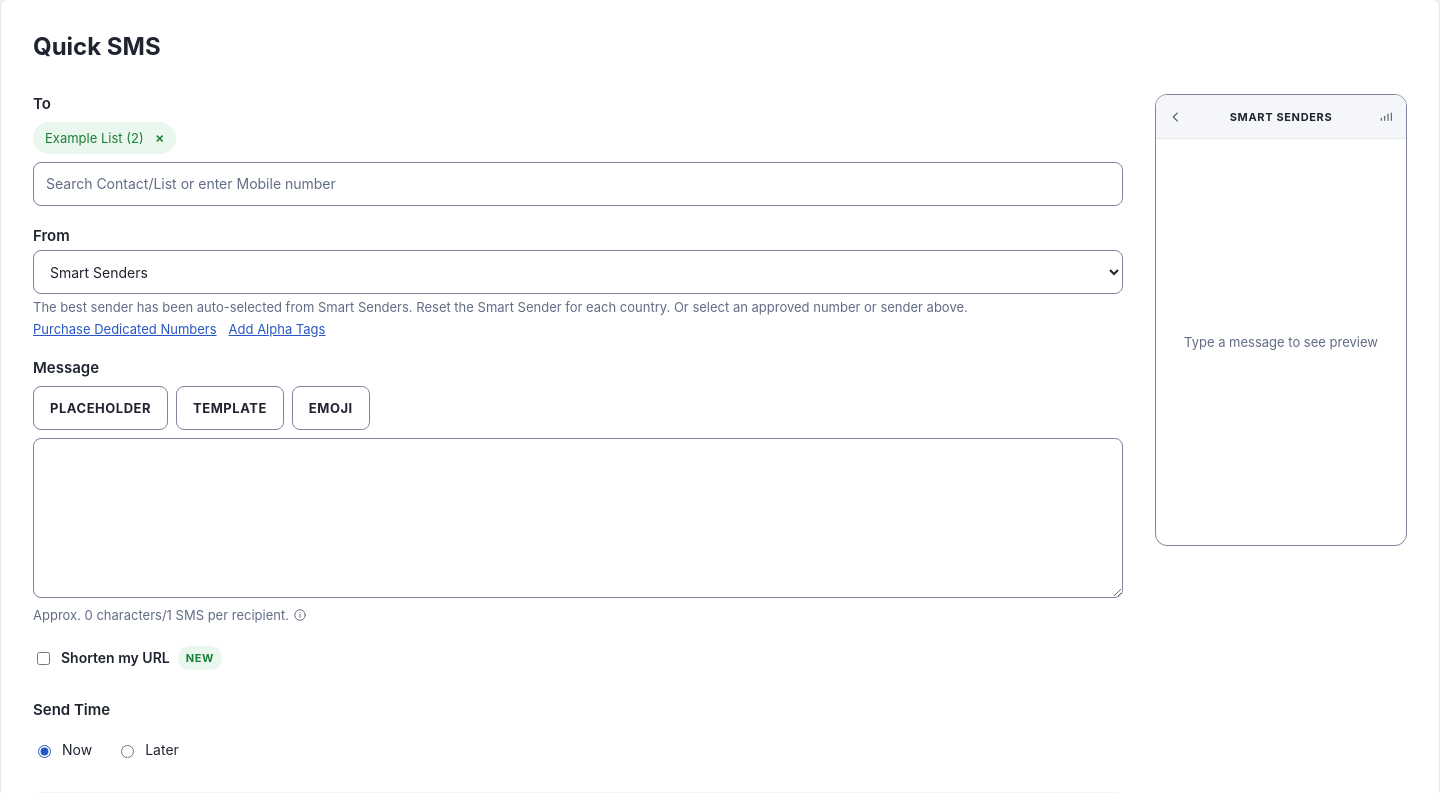
Test: QuickSendScreen › sends a list on its own as listIds with no numbers
Expected: the button named "Remove Example List (2)" is shown, x1=148 y1=126 x2=172 y2=150
Type "Hello" into the text box labelled "Message" at x=578, y=518, box x1=33 y1=438 x2=1123 y2=598
(page scrolled)
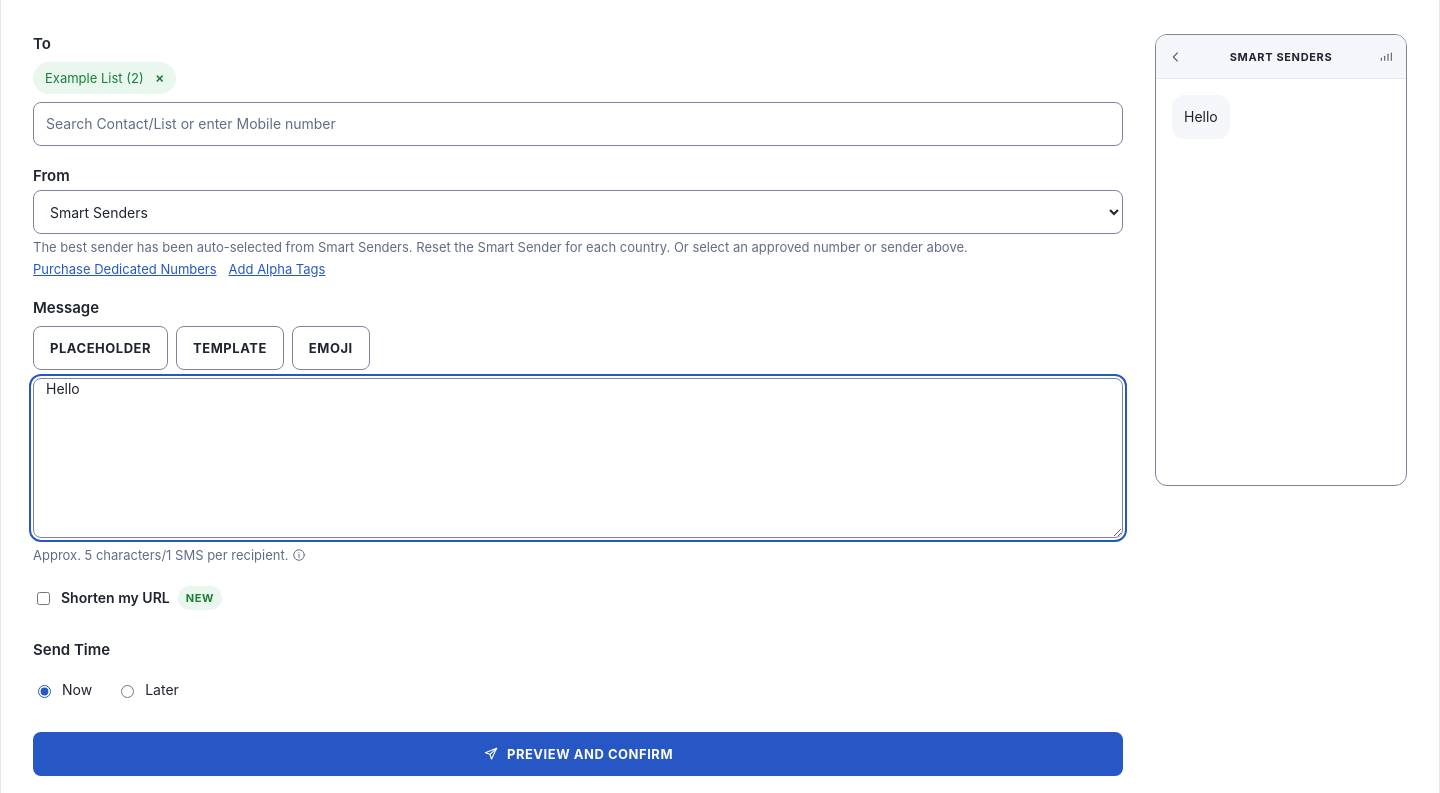
Click the button "PREVIEW AND CONFIRM" at x=578, y=754, box x1=33 y1=732 x2=1123 y2=776
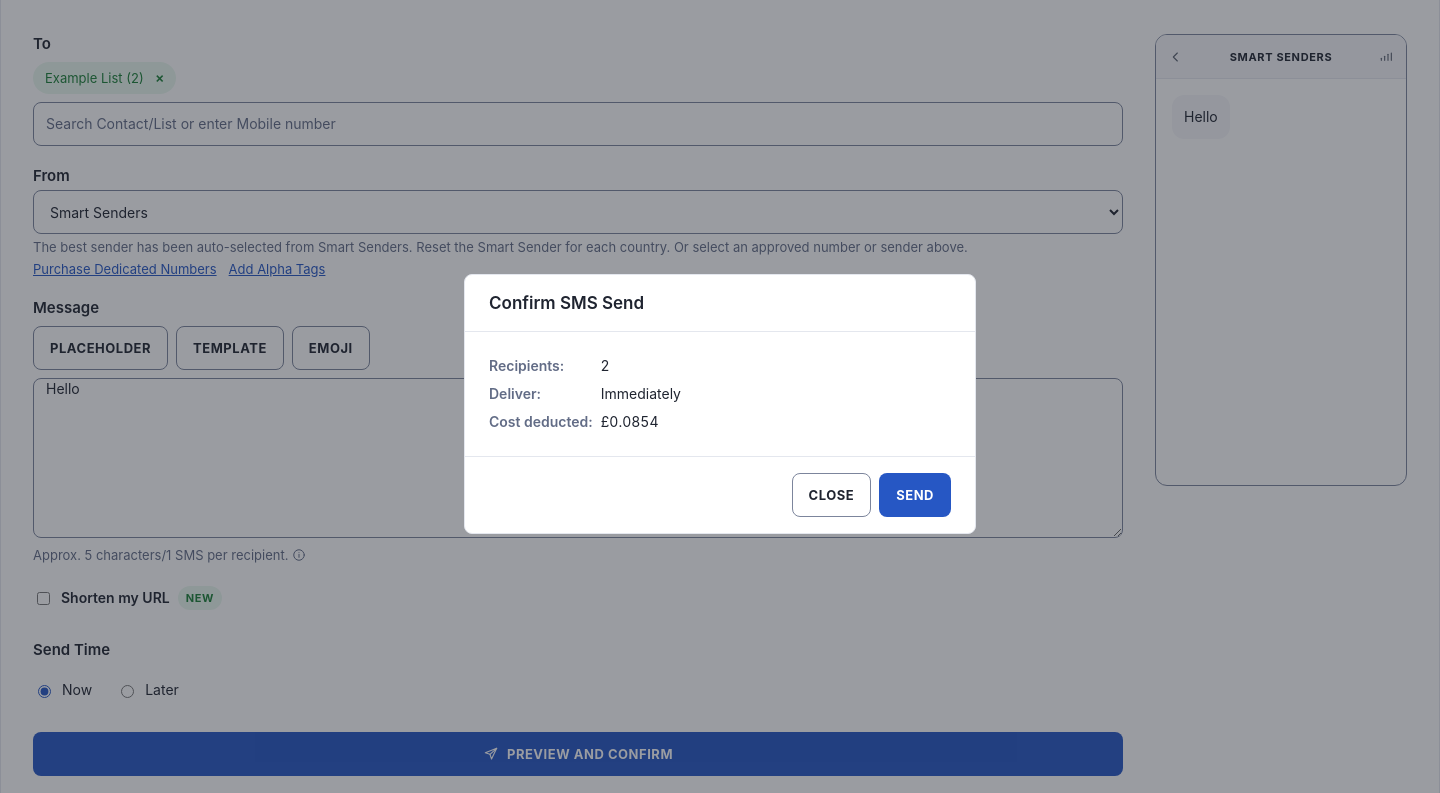
Click the button "SEND" at x=915, y=495, box x1=879 y1=473 x2=951 y2=517
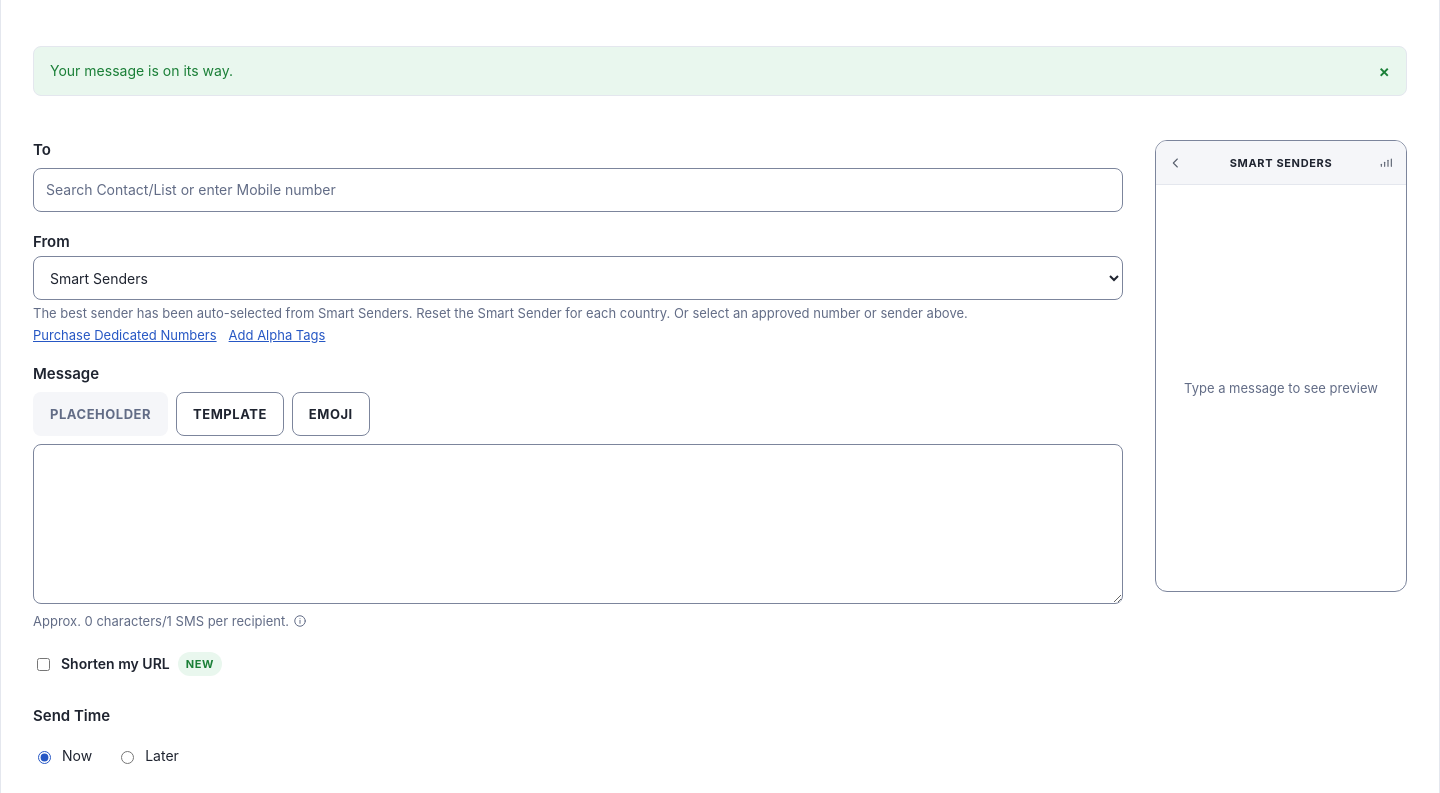
Expected: the text "Your message is on its way." is shown, x1=50 y1=62 x2=233 y2=79
